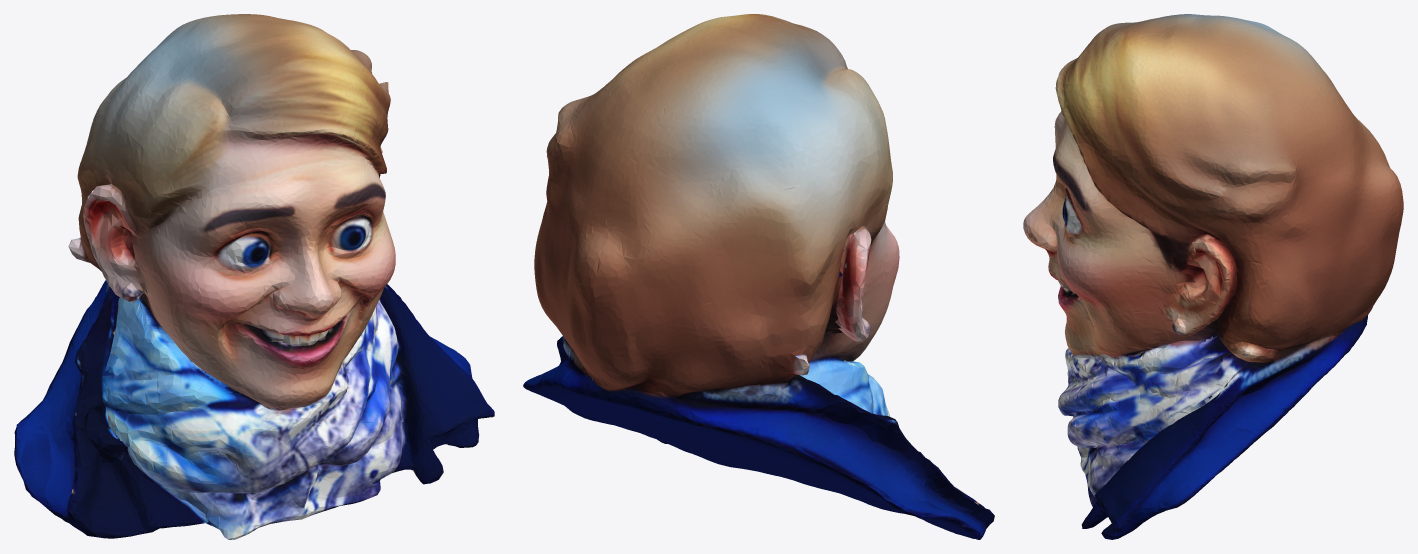
File: h3t_portrait_0001.glb
The picture shows the model from 3 angles, left to right: view 1: azimuth 30°, elevation 25°; view 2: azimuth 150°, elevation 25°; view 3: azimuth 270°, elevation 25°; orthographic projection. The views are drawn at different scales.
Visible parts, largest first — view 1: geometry_0; view 2: geometry_0; view 3: geometry_0.
Part boxes in pixels (left/top/right/bottom): geometry_0: left=14, top=14, right=494, bottom=539; geometry_0: left=523, top=14, right=994, bottom=539; geometry_0: left=1023, top=14, right=1403, bottom=539.
Bounding box in the file's own units: 1.99 × 1.97 × 1.51.
1 material, 1 textured.
